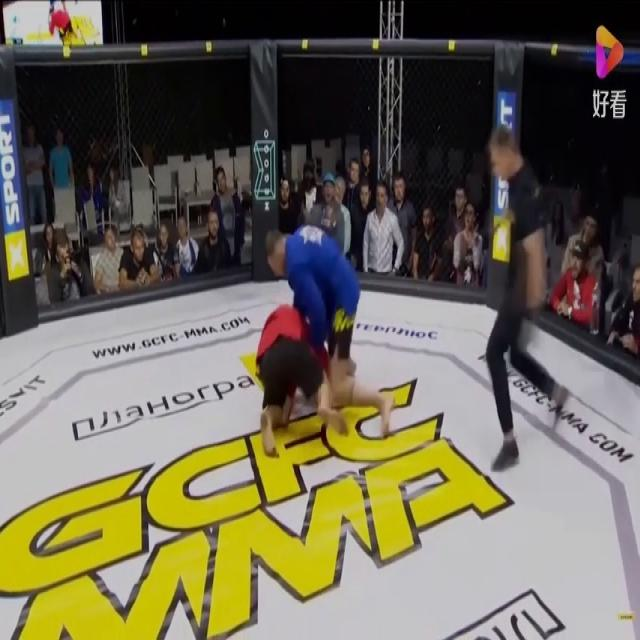fight: (256, 227, 392, 459)
non-fight: (486, 126, 570, 469)
